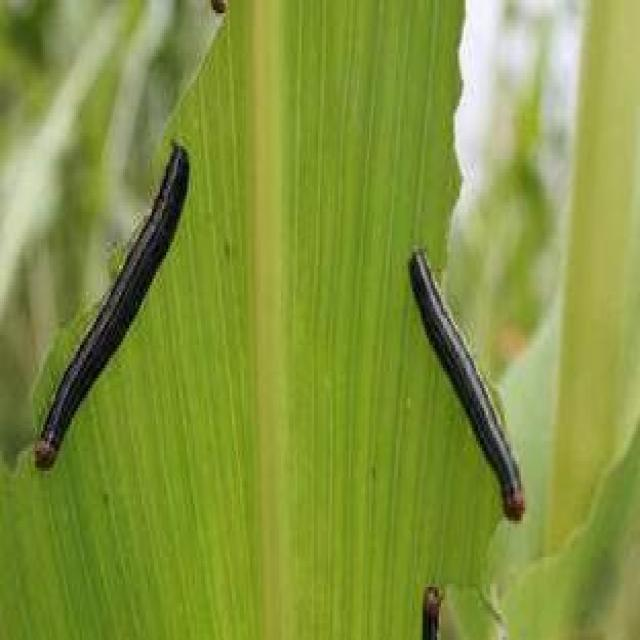army worm: (29, 135, 191, 477), (406, 237, 531, 529), (414, 580, 445, 636)
